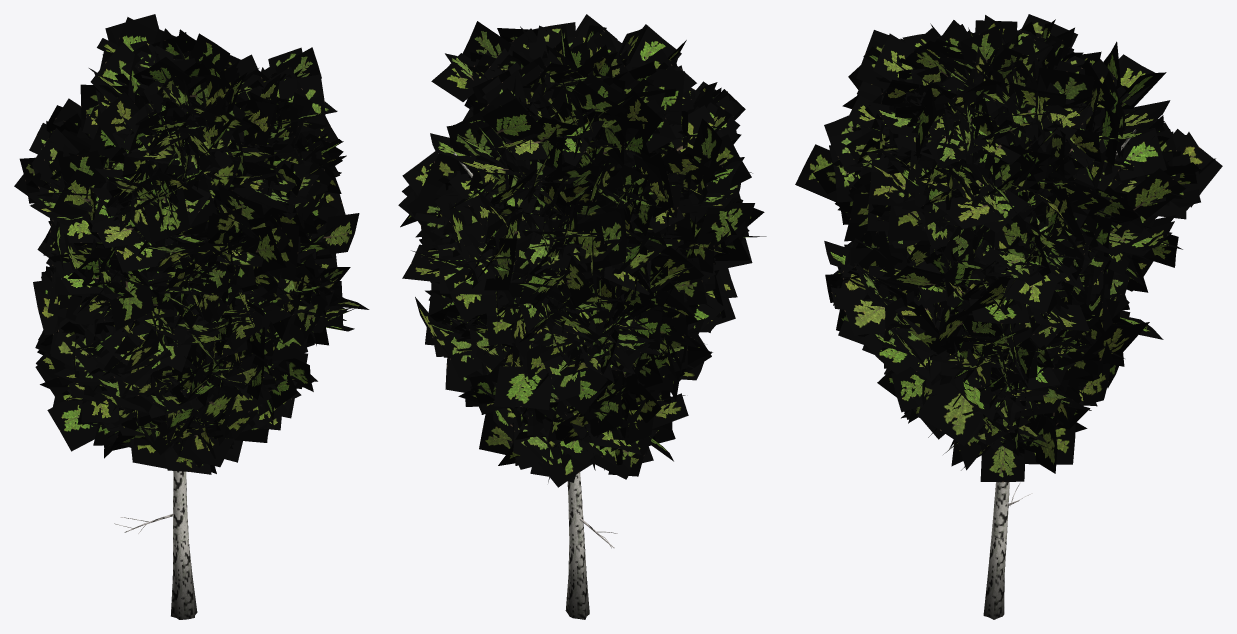
Rendered from briza_stara.glb.
3 views of the same model, side by side, from view 1: azimuth 30°, elevation 25°; view 2: azimuth 150°, elevation 25°; view 3: azimuth 270°, elevation 25° (orthographic). The views are drawn at different scales.
Visible parts, largest first — view 1: briza_stara; view 2: briza_stara; view 3: briza_stara.
Part boxes in pixels (x1=…): briza_stara: x1=14, y1=14, x2=369, y2=619; briza_stara: x1=398, y1=14, x2=766, y2=619; briza_stara: x1=795, y1=14, x2=1222, y2=619.
Size of the model in its own units: 10.71 by 19.05 by 12.35.
2 materials, 2 textured.
